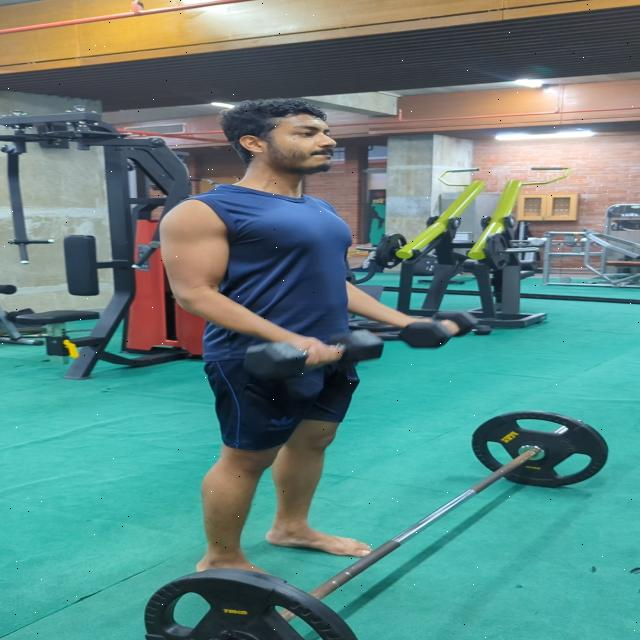Normal_DumbbellBicepCurls: (154, 98, 477, 574)
